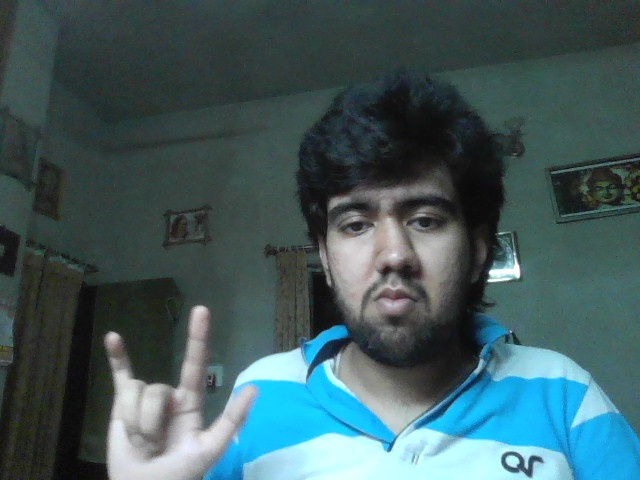ILoveYou: (104, 305, 257, 477)
